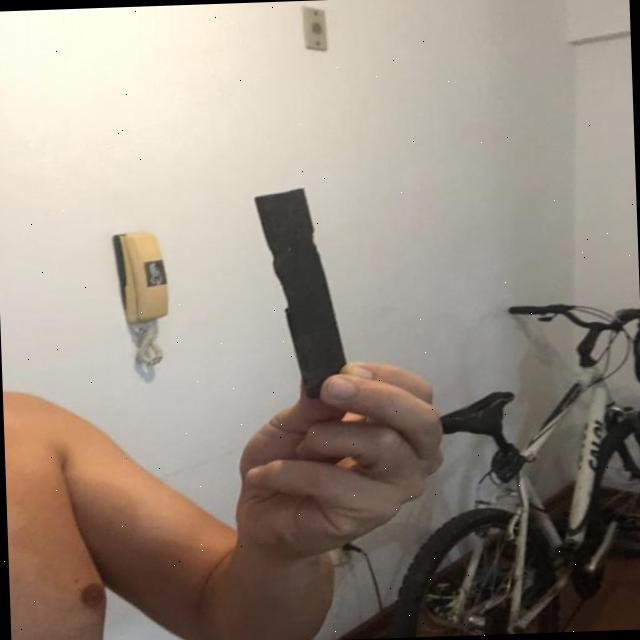Corrosion: (252, 184, 348, 400)
